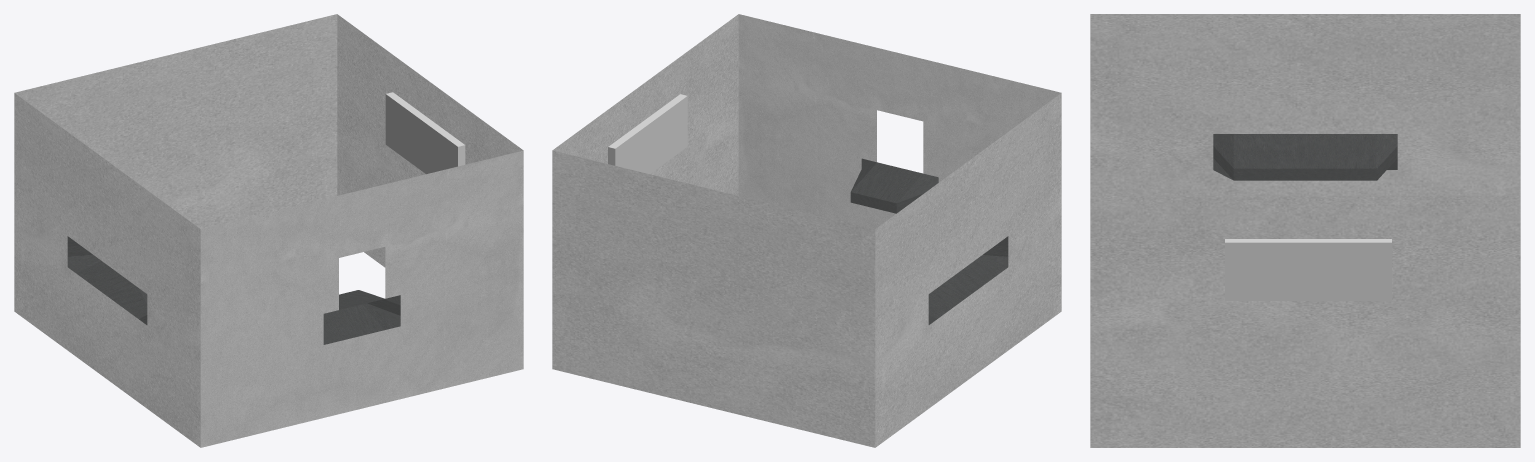
File: level_3_maybe.glb
The picture shows the model from 3 angles, left to right: view 1: azimuth 30°, elevation 25°; view 2: azimuth 150°, elevation 25°; view 3: azimuth 270°, elevation 25°; orthographic projection. The views are drawn at different scales.
Parts seen in each view (by area): view 1: Cube, Cube.003, Cube.002, Cube.001; view 2: Cube, Cube.003, Cube.002, Cube.001; view 3: Cube, Cube.003, Cube.001.
Boxes of the visible parts, left/top/right/bottom form: Cube: left=14, top=14, right=523, bottom=447; Cube.003: left=385, top=92, right=465, bottom=174; Cube.002: left=323, top=290, right=400, bottom=344; Cube.001: left=67, top=236, right=147, bottom=324; Cube: left=552, top=14, right=1061, bottom=447; Cube.003: left=608, top=94, right=687, bottom=174; Cube.002: left=850, top=158, right=938, bottom=213; Cube.001: left=928, top=236, right=1008, bottom=324; Cube: left=1090, top=14, right=1520, bottom=447; Cube.003: left=1225, top=239, right=1391, bottom=300; Cube.001: left=1213, top=134, right=1397, bottom=180.
Bounding box in the file's own units: 20.41 × 12.94 × 20.
3 materials, 2 textured.
